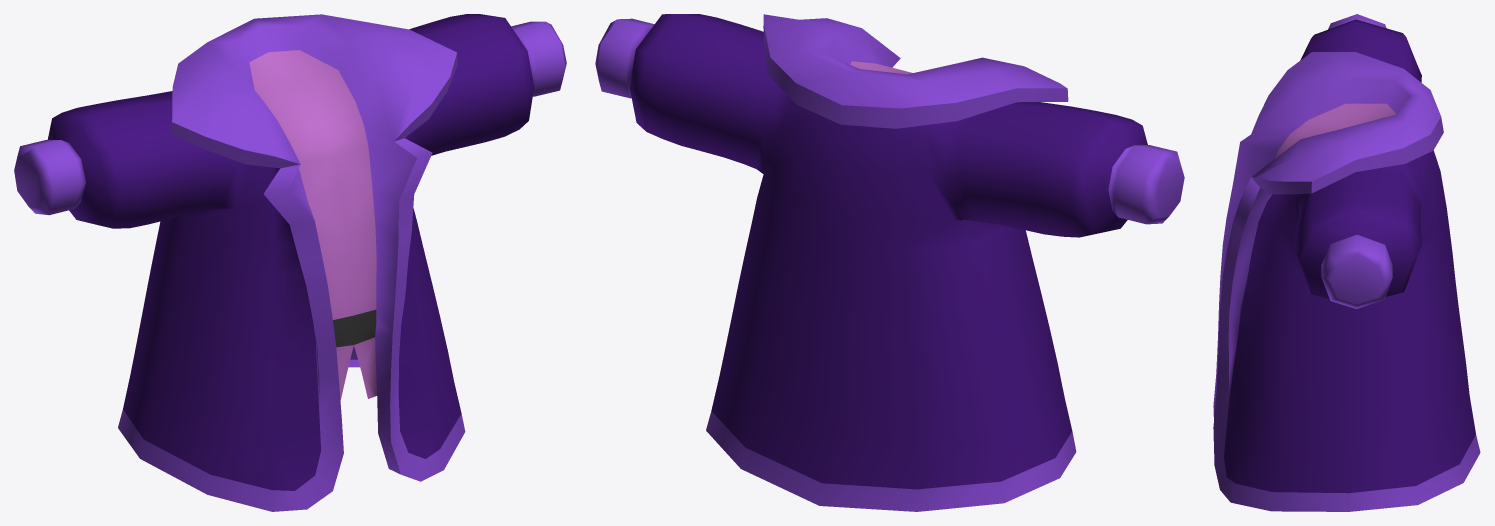
The model's file is Chest_36.fbx.
The picture shows the model from 3 angles, left to right: view 1: azimuth 30°, elevation 25°; view 2: azimuth 150°, elevation 25°; view 3: azimuth 270°, elevation 25°; orthographic projection. The views are drawn at different scales.
Parts seen in each view (by area): view 1: Chest_36; view 2: Chest_36; view 3: Chest_36.
Part boxes in pixels (bbox=[...]): Chest_36: bbox=[14, 14, 566, 511]; Chest_36: bbox=[595, 14, 1184, 511]; Chest_36: bbox=[1213, 14, 1480, 511].
Size of the model in its own units: 95.83 by 69.27 by 45.33.
